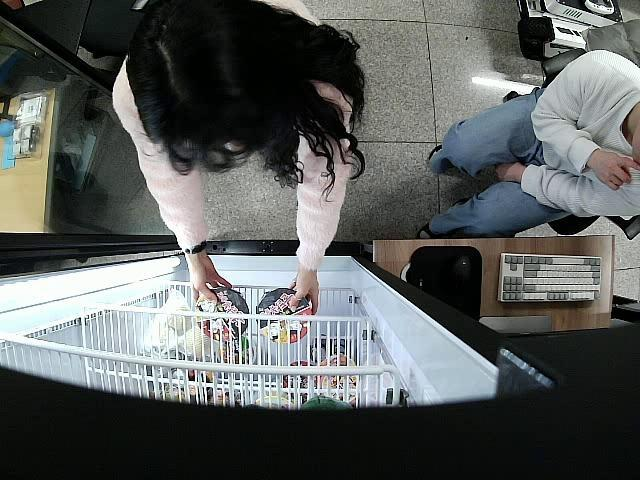07_buldak_L: (192, 285, 252, 342), (256, 288, 312, 344)
